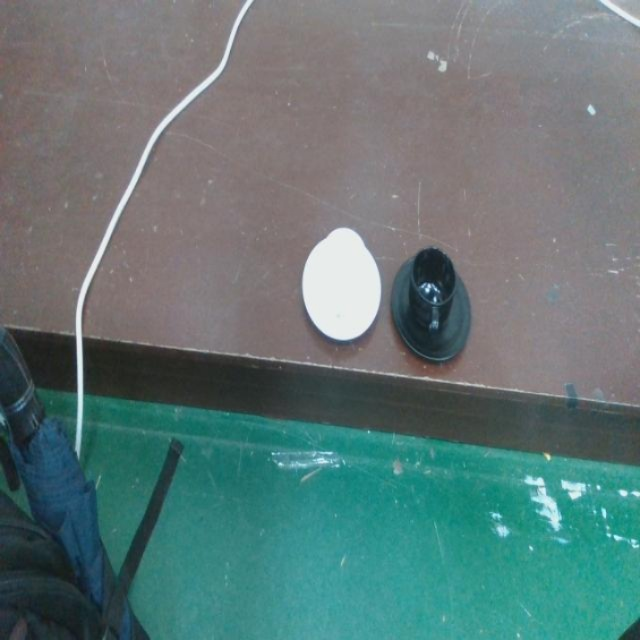black: (388, 240, 474, 366)
white: (301, 226, 383, 346)
